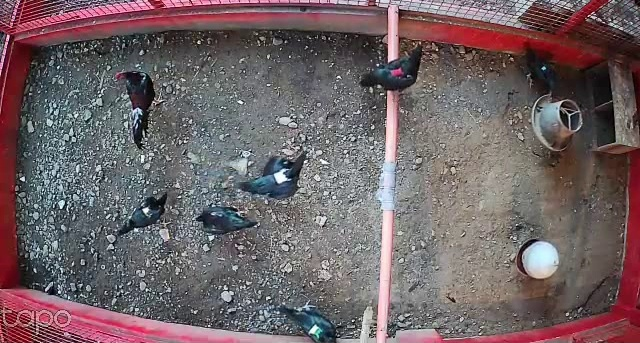Chicken: (235, 147, 314, 203), (356, 42, 427, 95), (115, 189, 171, 237), (194, 203, 255, 240), (518, 45, 561, 96)
Rooster: (115, 66, 167, 152)
Saddle_Color_Blue: (541, 66, 547, 71)
Saddle_Color_Red: (388, 69, 403, 78)
Saddle_Color_White: (274, 169, 292, 184)
Saddle_Color_Yellow: (140, 200, 154, 219)
Saddle_Color_YellowGreen: (307, 323, 323, 340)
